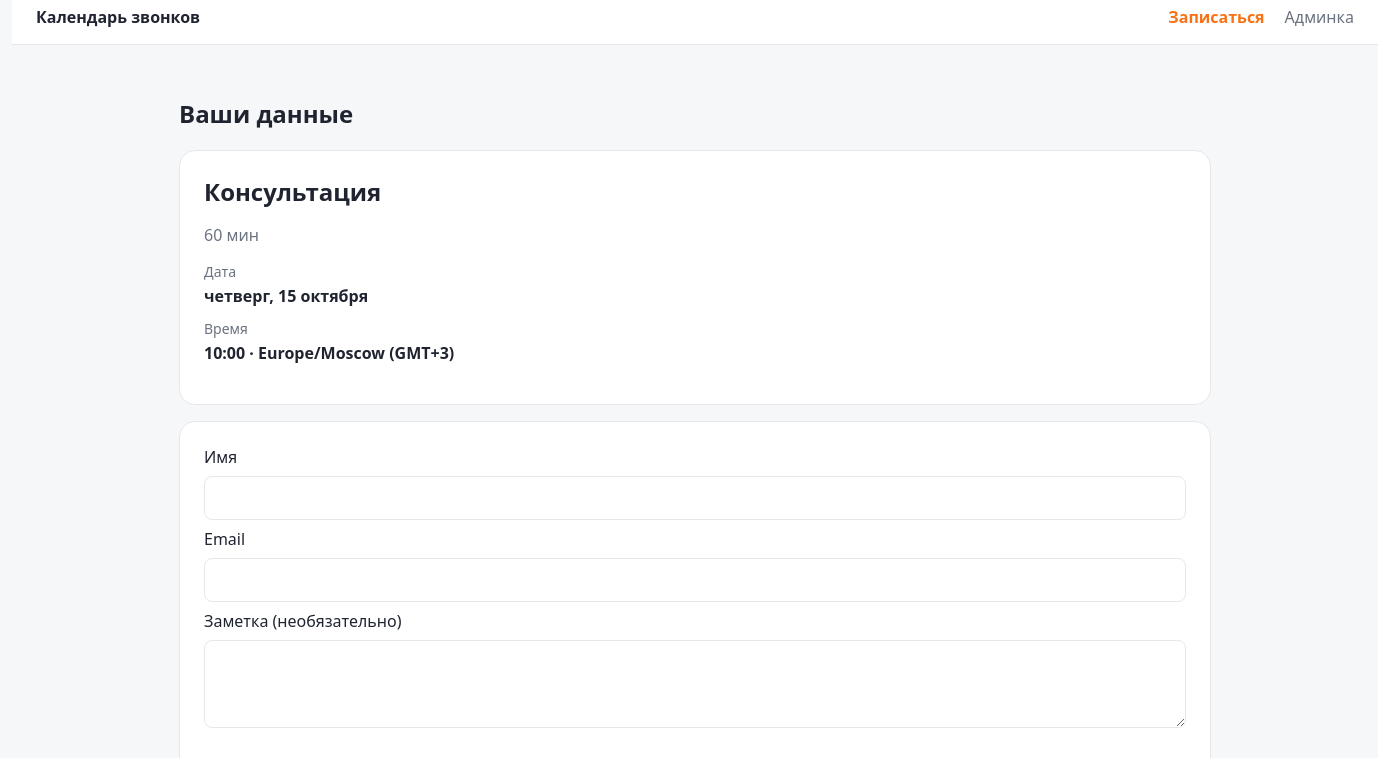
Test: booking form › shows "not found" when the booking answers 404
Type "Анна Гость" into the field labelled "Имя" at [695, 498], box 204,476 -> 1186,520
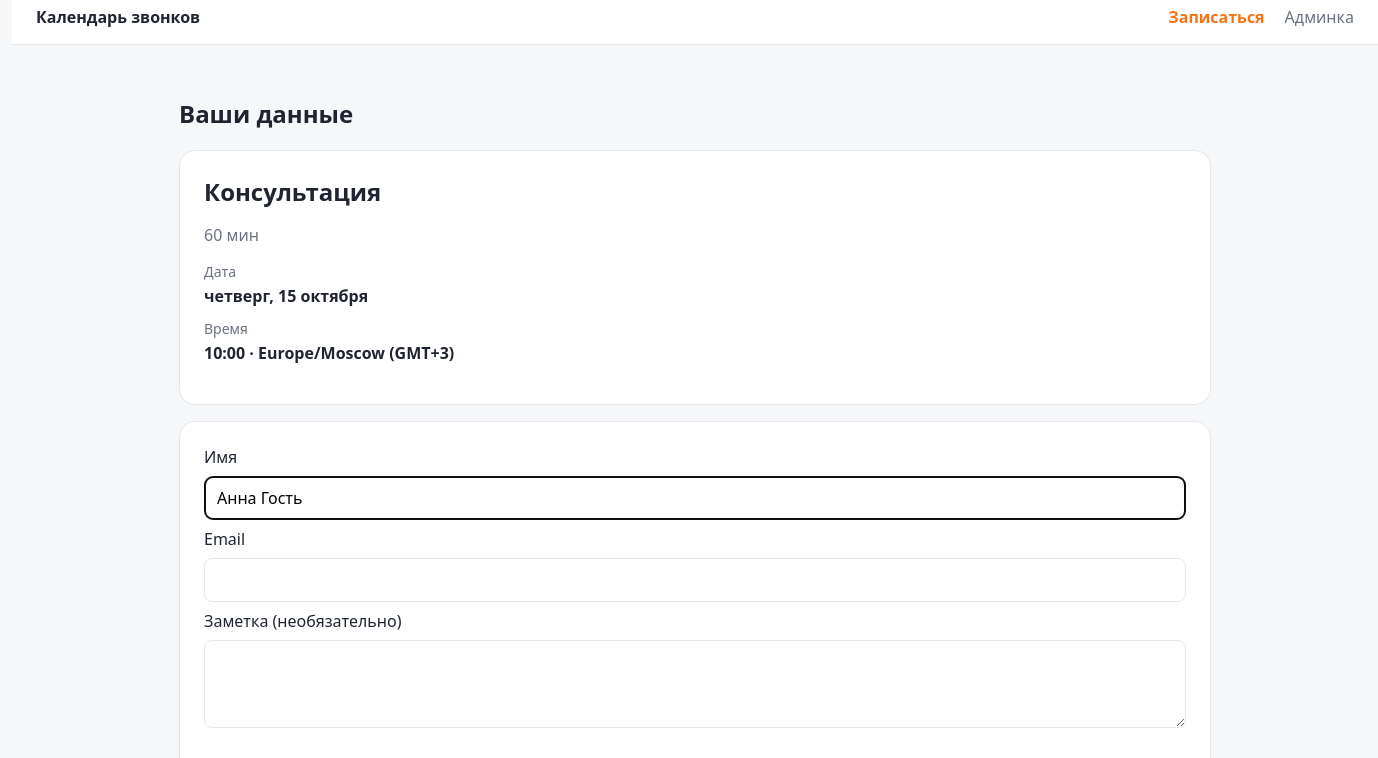
Type "anna@example.com" into the field labelled "Email" at [695, 580], box 204,558 -> 1186,602
(page scrolled)
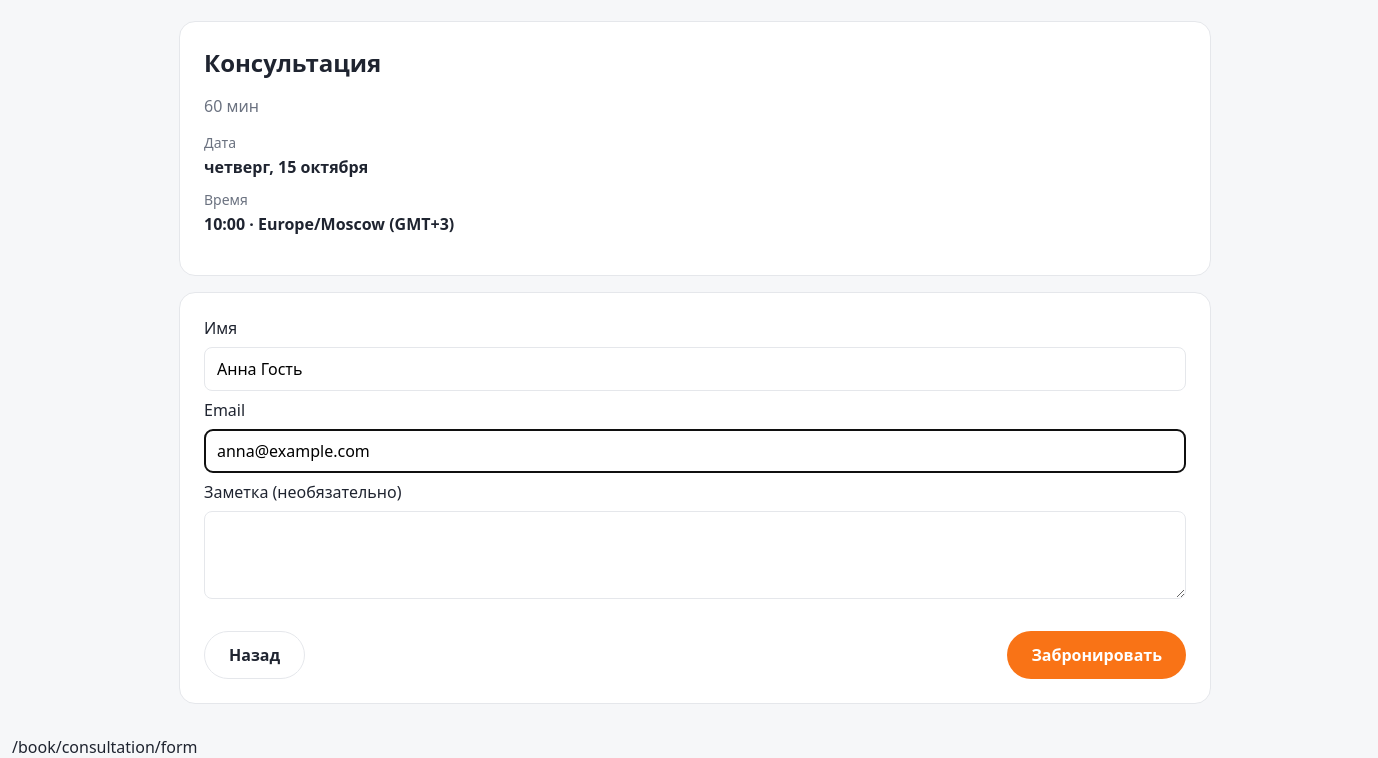
Click the button "Забронировать" at [1097, 655], box 1007,631 -> 1186,679
(page scrolled)
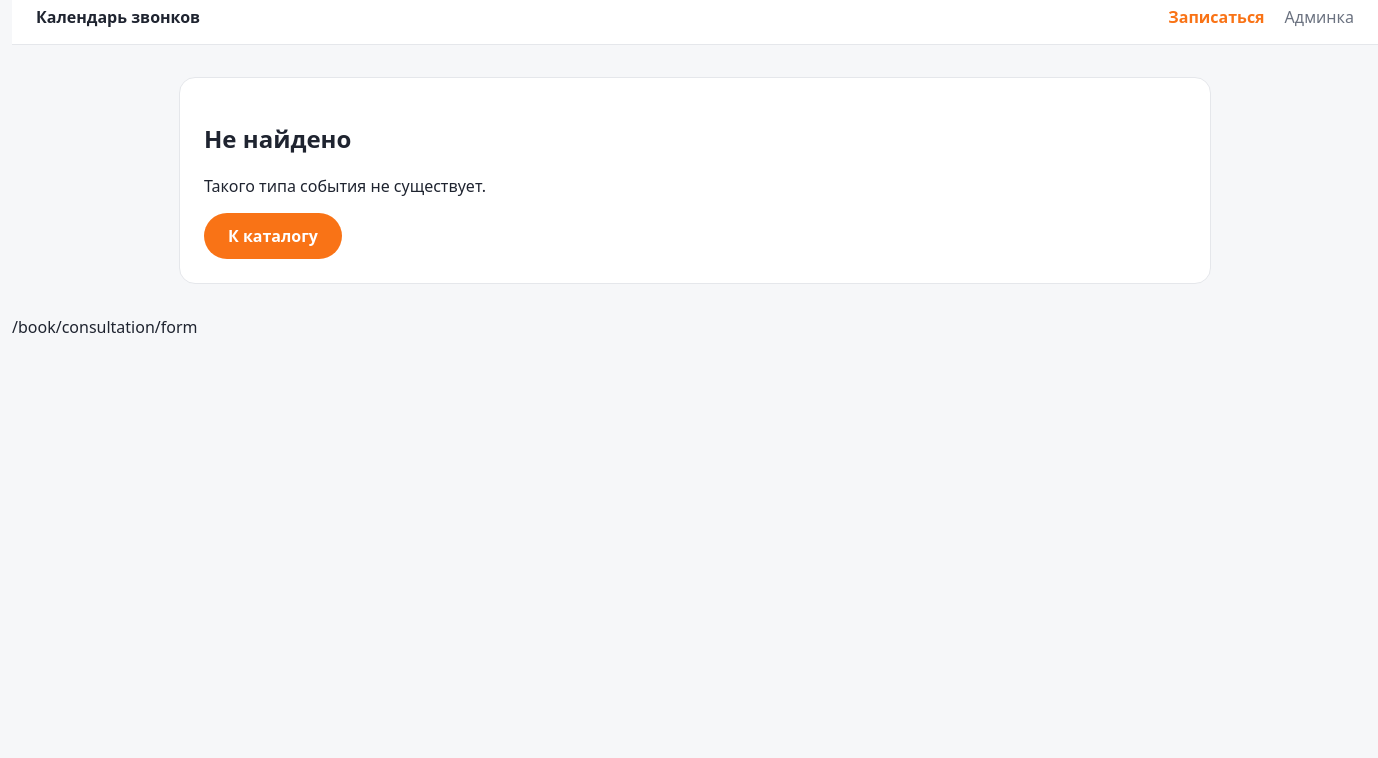
Now the heading "Не найдено" is shown, box 204,122 -> 351,155
